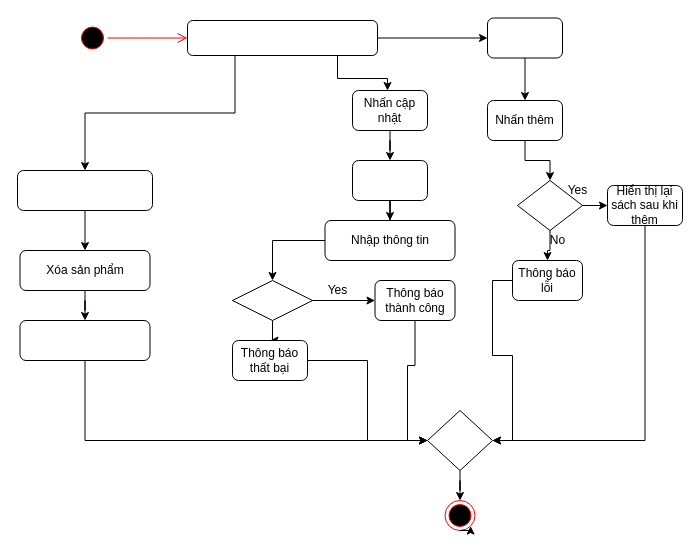
The diagram is 700 pixels wide and 556 high, and some of its shapes have lost their labels. The box of each missing label's shape, as (x1, y1, x2, y2) in pixels:
Hiển thị màn hình cập nhật: (352, 160, 428, 200)
Hiển thị màn hình quản lý sách: (186, 20, 378, 56)
Nhấn nút xóa: (16, 170, 152, 210)
Nhập thông tin sách: (486, 17, 562, 58)
Tải lại màn hình sau khi xóa: (19, 320, 150, 360)
